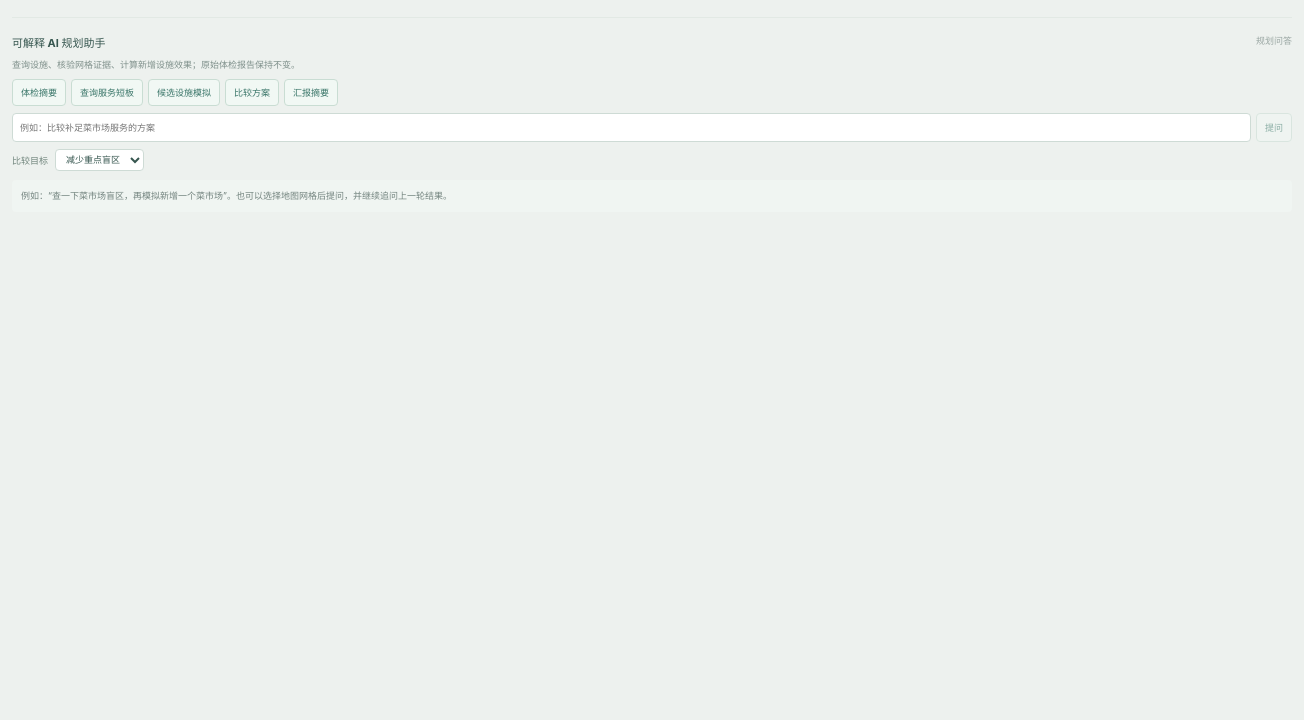
Scenario: 工具规划助手 › 问答走工具接口并展示实际结果、参数和来源
Type "查询菜市场" into the field with placeholder "例如：比较补足菜市场服务的方案" at coordinates (632, 128), box [12,113,1251,142]
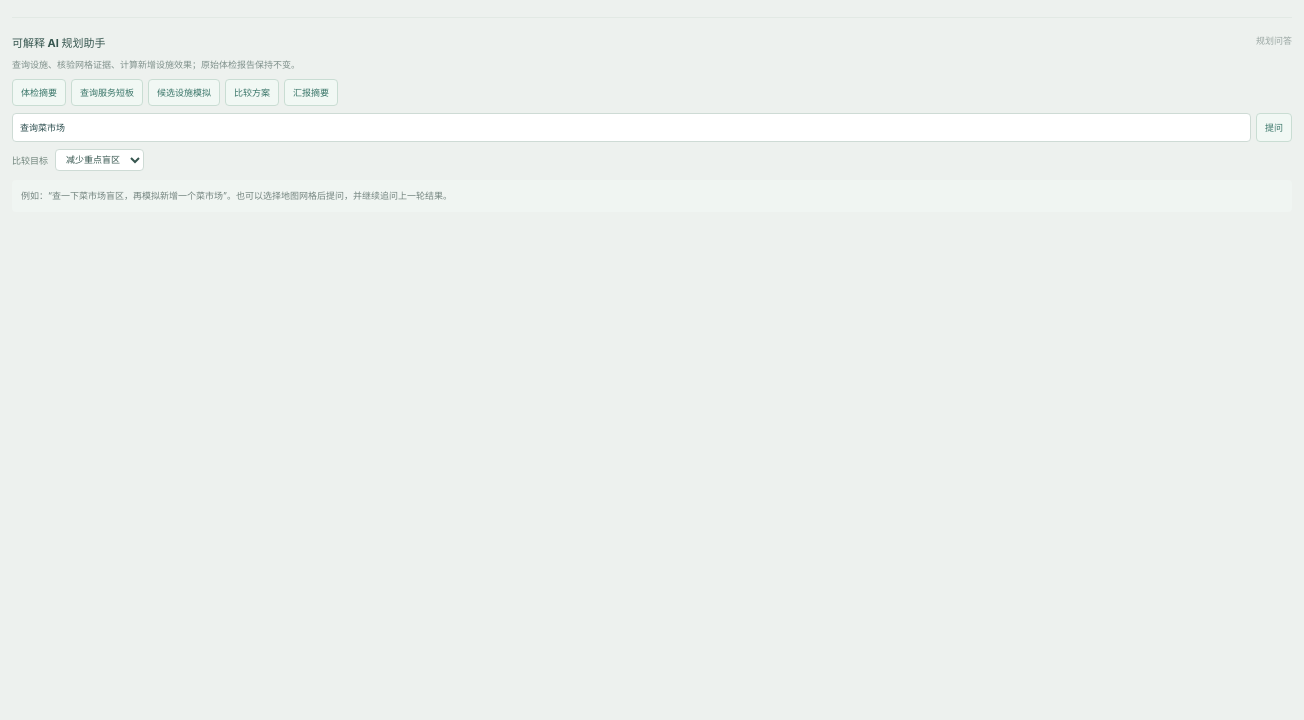
Click the button "提问" at coordinates (1274, 128), box [1256,113,1292,142]
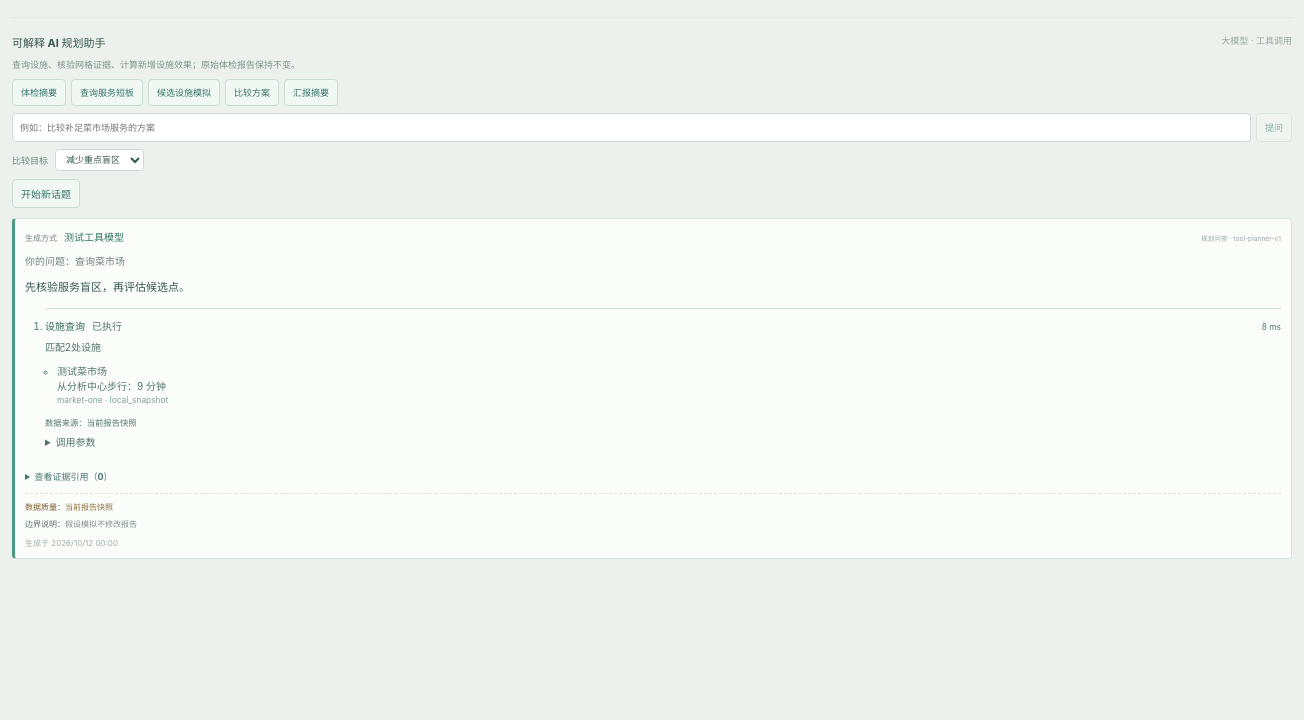
Expected: the text "大模型 · 工具调用" is shown, [1221,34,1292,50]
Expected: the text "匹配2处设施" is shown, [45,341,101,353]
Expected: the text "测试菜市场" is shown, [57,365,107,377]
